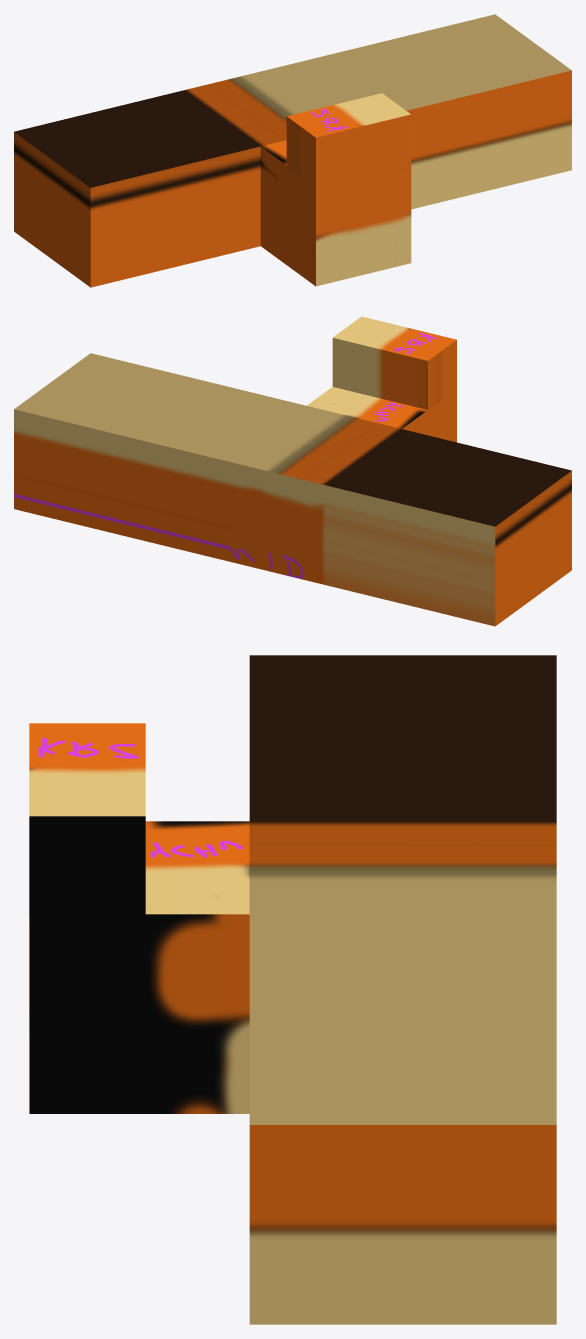
Rendered from Level.gltf.
The picture shows the model from 3 angles, top to bottom: view 1: azimuth 30°, elevation 25°; view 2: azimuth 150°, elevation 25°; view 3: azimuth 270°, elevation 25°; orthographic projection. The views are drawn at different scales.
Parts seen in each view (by area): view 1: Level-Col; view 2: Level-Col; view 3: Level-Col.
Part boxes in pixels (x1=…): Level-Col: x1=14, y1=14, x2=571, y2=287; Level-Col: x1=14, y1=316, x2=571, y2=626; Level-Col: x1=29, y1=655, x2=556, y2=1324.
Size of the model in its own units: 22.08 by 6.52 by 10.47.
Materials: 1 (1 with a texture image).
